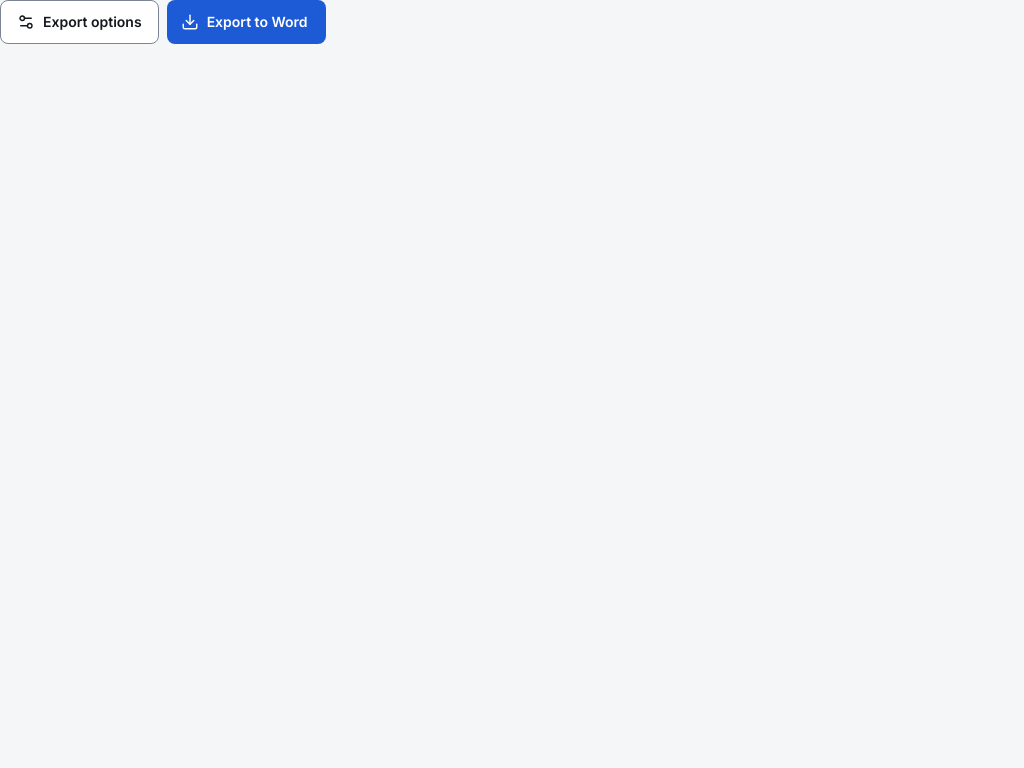
Test: ExportOptions › keeps the last column visible with an inline message
This screenshot has width=1024, height=768.
Click the button "Export options" at (79, 22), box [0, 0, 159, 44]
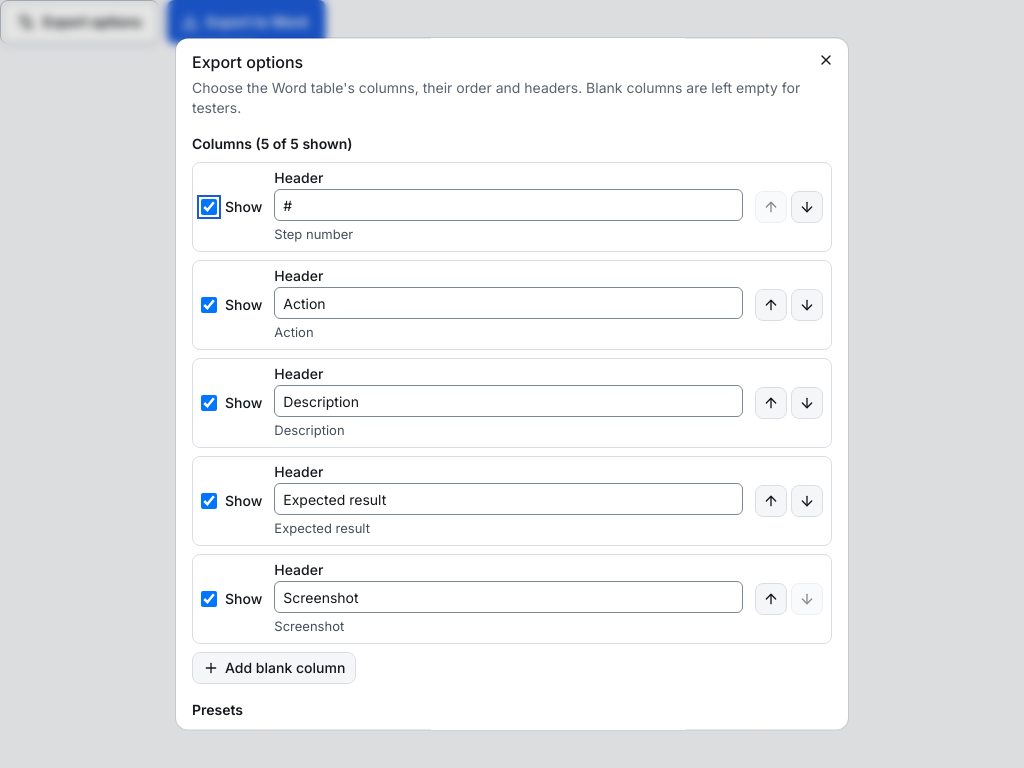
Click the 1st checkbox labelled "Show" at (209, 207), box [201, 199, 217, 215]
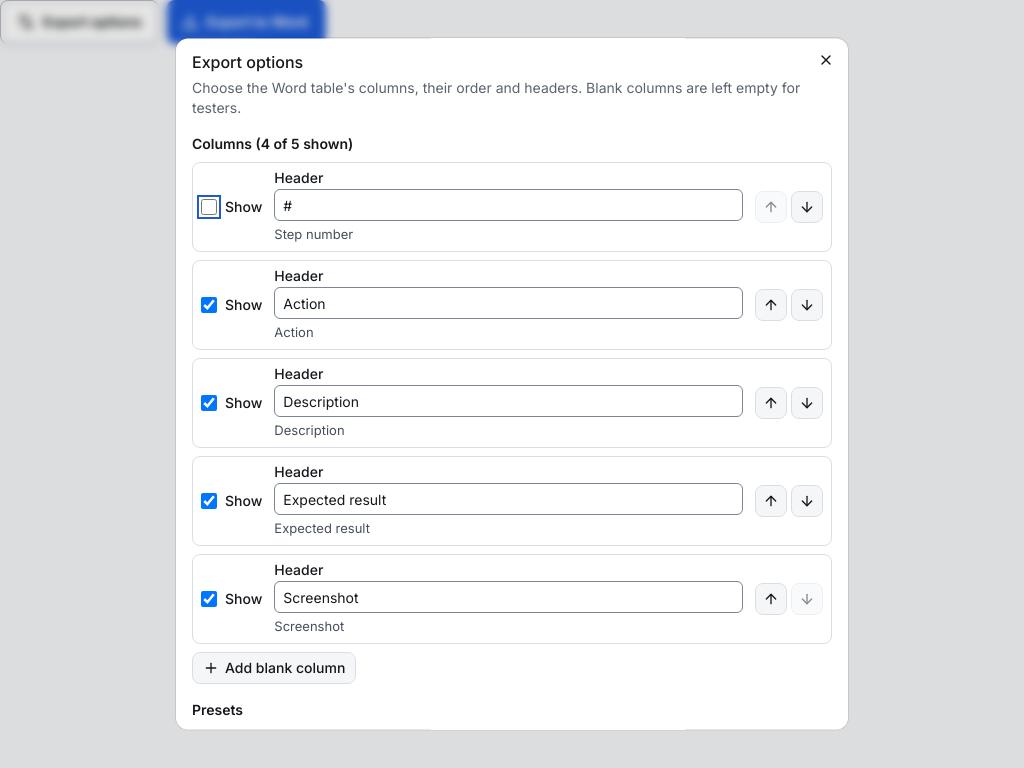
Click the checkbox named "Show 'Action'" at (209, 305), box [201, 297, 217, 313]
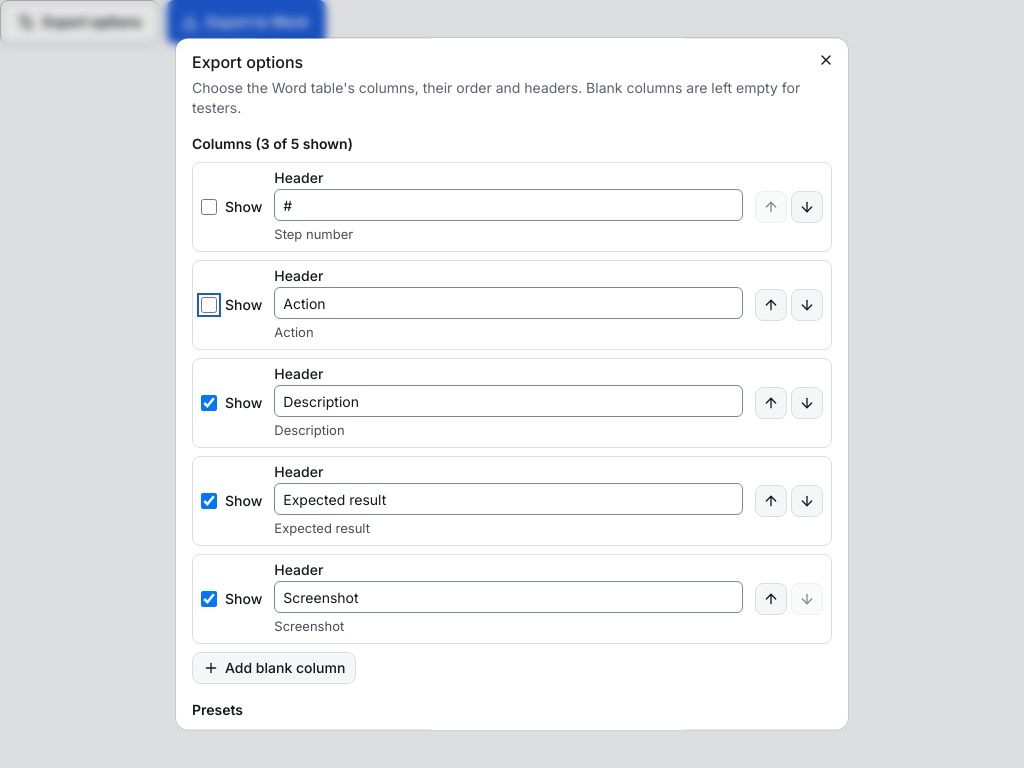
Click the 3rd checkbox labelled "Show" at (209, 403), box [201, 395, 217, 411]
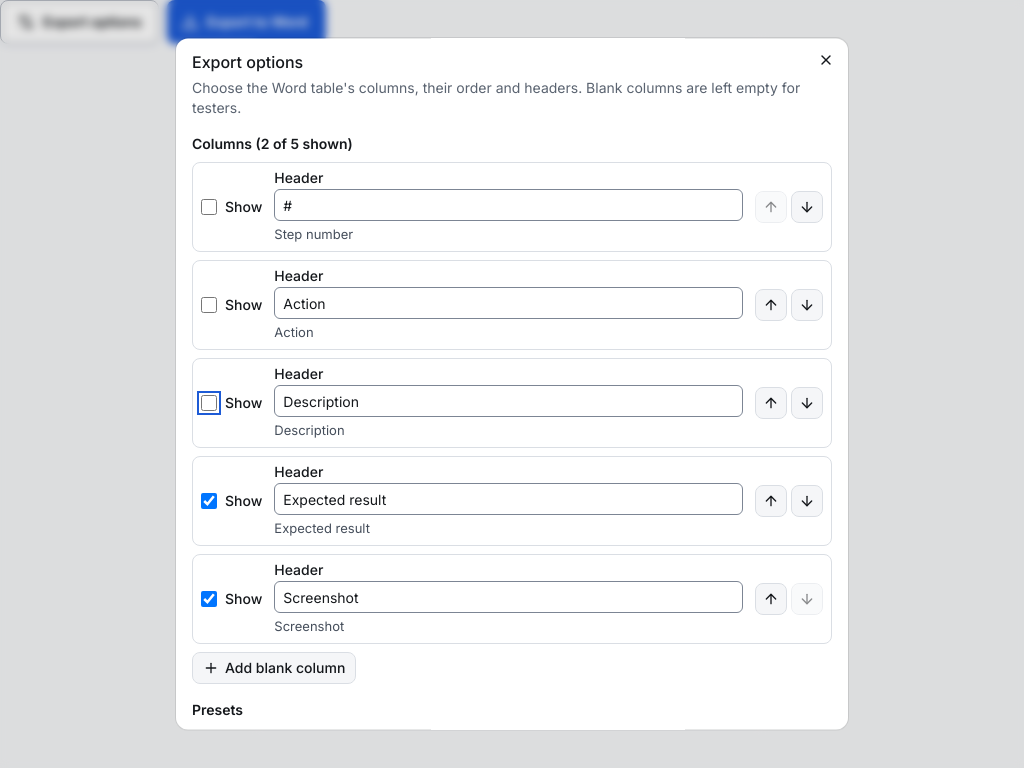
Click the 4th checkbox labelled "Show" at (209, 501), box [201, 493, 217, 509]
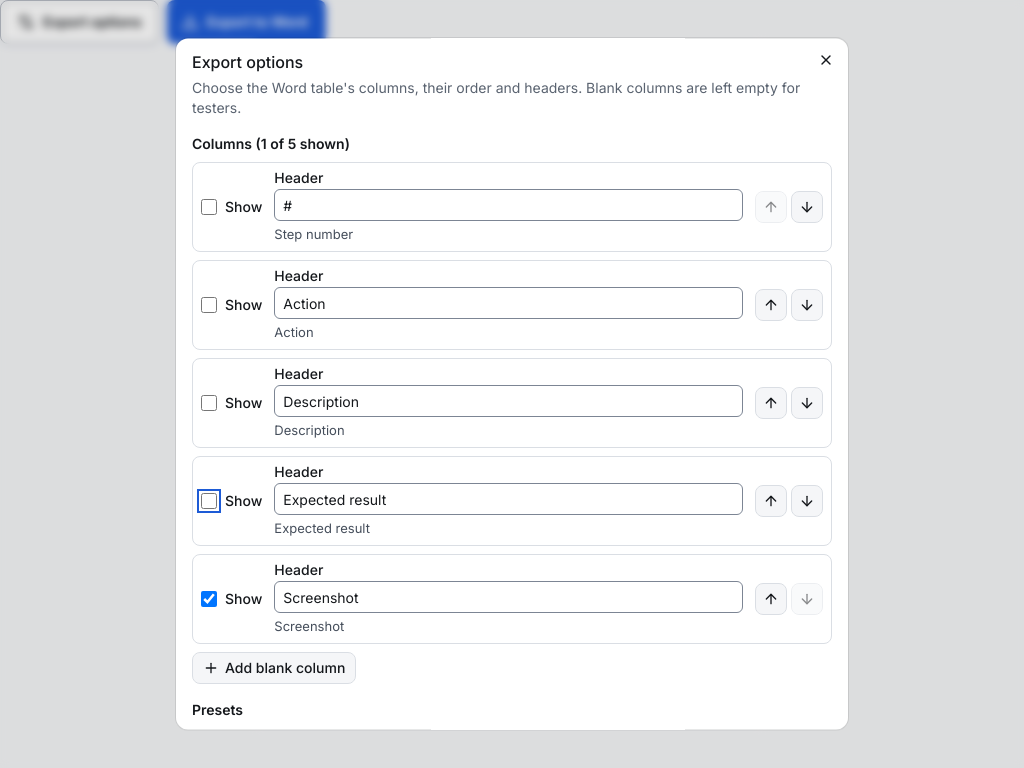
Click the checkbox named "Show 'Screenshot'" at (209, 599), box [201, 591, 217, 607]
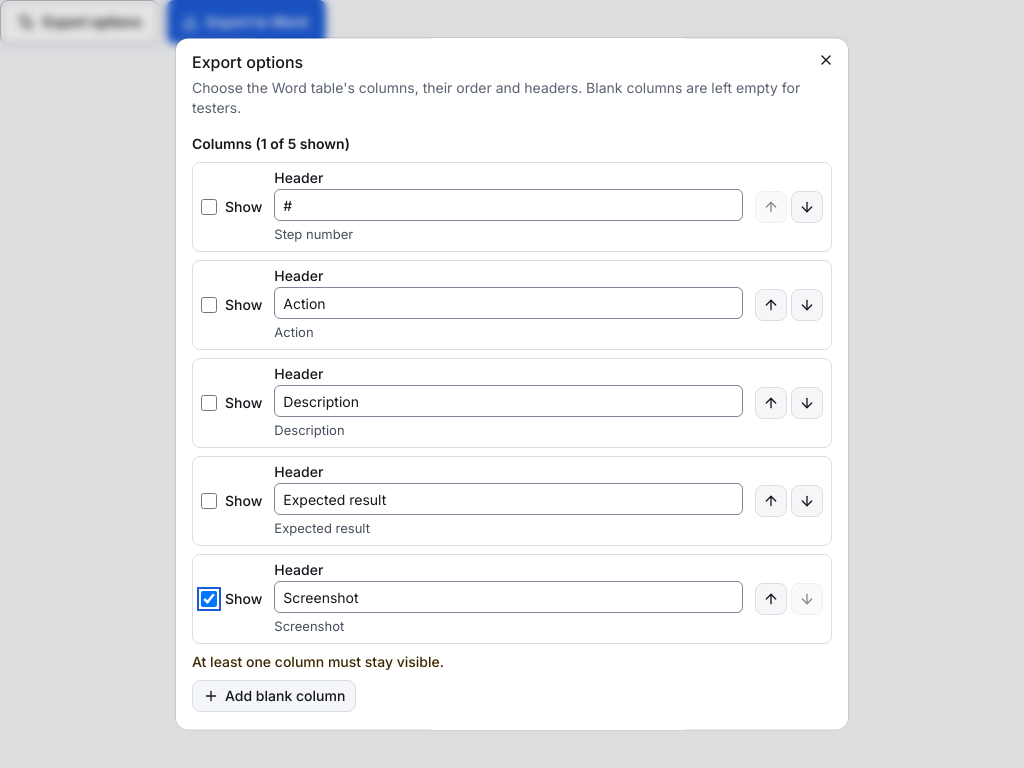
Expected: the checkbox named "Show 'Screenshot'" is checked, [201, 591, 217, 607]
Expected: the text "At least one column must stay visible." is shown, [192, 653, 444, 670]
